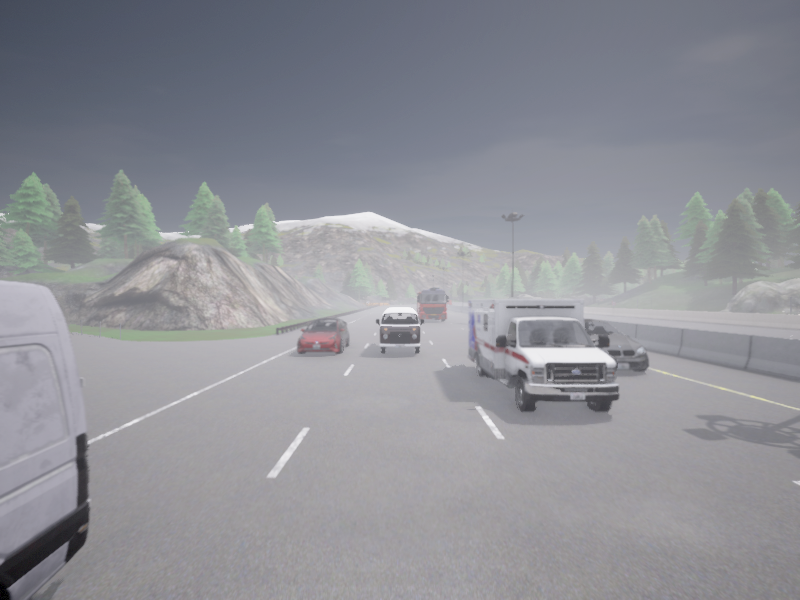vehicle: (0, 280, 90, 599), (467, 299, 619, 411), (584, 319, 648, 371), (376, 307, 423, 354), (297, 318, 349, 354), (417, 287, 448, 321), (446, 300, 451, 304)
